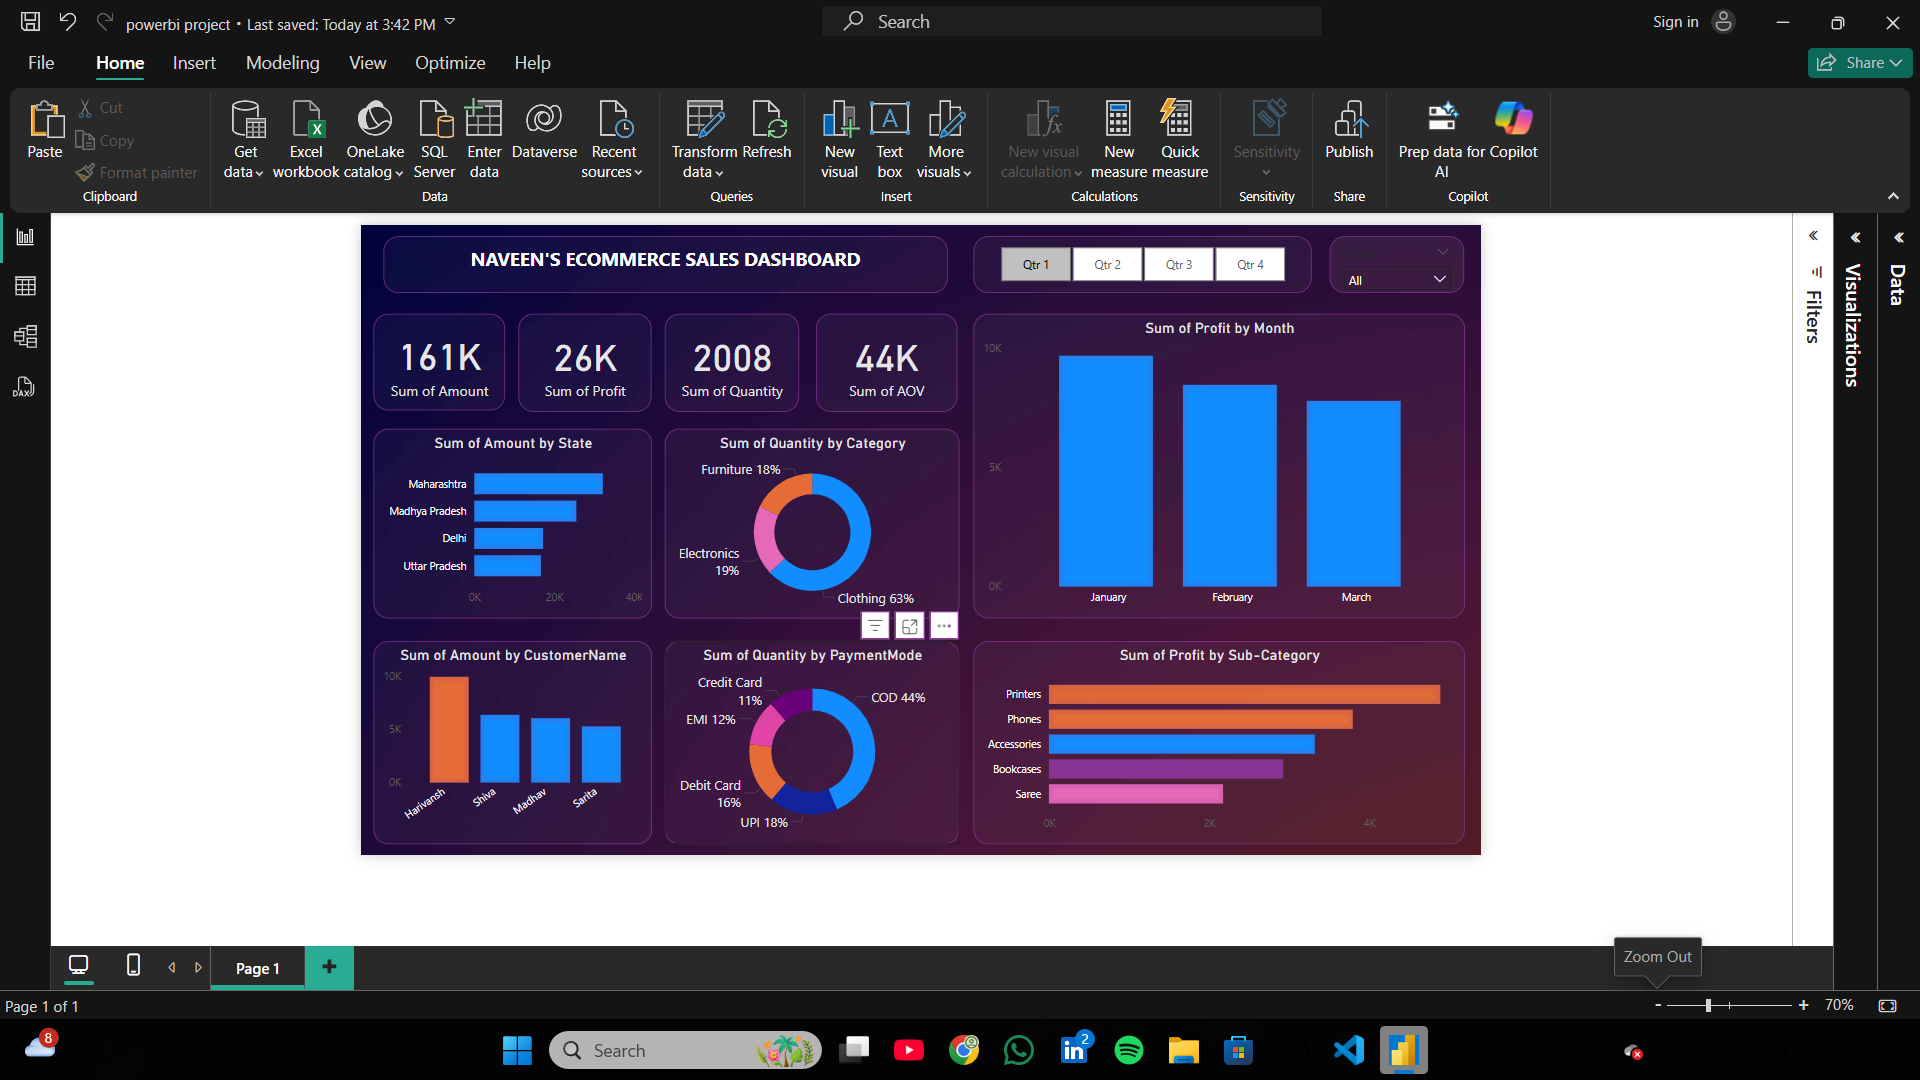

This screenshot's page, from the dashboard's own definition file:
{"tool":"powerbi","page":{"name":"Page 1","canvas":[1280,720],"ordinal":0},"visuals":[{"type":"textbox","box":[26.2,12.3,644.6,64.6],"z":0},{"type":"columnChart","fields":{"Category":["Orders.Order Date.Variation.Date Hierarchy.Month"],"Y":["Sum(Details.Profit)"]},"box":[700,101.5,561.5,347.7],"z":1000},{"type":"barChart","fields":{"Category":["Details.Sub-Category"],"Y":["Sum(Details.Profit)"]},"box":[700,475.4,561.5,232.3],"z":2000},{"type":"donutChart","fields":{"Category":["Details.Category"],"Y":["Sum(Details.Quantity)"]},"box":[347.7,232.3,336.9,216.9],"z":3000},{"type":"donutChart","fields":{"Y":["Sum(Details.Quantity)"],"Category":["Details.PaymentMode"]},"box":[347.7,475.4,336.9,232.3],"z":4000},{"type":"card","fields":{"Values":["Sum(Details.Amount)"]},"box":[13.8,101.5,150.8,110.8],"z":4001},{"type":"card","fields":{"Values":["Sum(Details.Profit)"]},"box":[180,101.5,152.3,112.3],"z":4002},{"type":"card","fields":{"Values":["Sum(Details.Quantity)"]},"box":[347.7,101.5,153.8,112.3],"z":4003},{"type":"card","fields":{"Values":["Sum(Details.AOV)"]},"box":[520,101.5,161.5,112.3],"z":4004},{"type":"barChart","fields":{"Y":["Sum(Details.Amount)"],"Category":["Orders.State"]},"box":[13.8,232.3,318.5,216.9],"z":4005},{"type":"columnChart","fields":{"Category":["Orders.CustomerName"],"Y":["Sum(Details.Amount)"]},"box":[13.8,475.4,318.5,232.3],"z":4006},{"type":"slicer","fields":{"Values":["Orders.State"]},"box":[1107.7,12.3,153.8,64.6],"z":4007},{"type":"slicer","fields":{"Values":["Orders.Order Date.Variation.Date Hierarchy.Quarter"]},"box":[700,12.3,386.2,64.6],"z":4008}]}

Visuals, with their boxes on the page's 1280x720 design canvas (x1, y1, x2, y2). These are canvas units, not pixel positions in the 1920x1080 screenshot, which may show the page scaled, cropped or inside an application window:
textbox: rect(26, 12, 671, 77)
columnChart - Orders.Order Date.Variation.Date Hierarchy.Month x Sum(Details.Profit): rect(700, 102, 1262, 449)
barChart - Details.Sub-Category x Sum(Details.Profit): rect(700, 475, 1262, 708)
donutChart - Details.Category x Sum(Details.Quantity): rect(348, 232, 685, 449)
donutChart - Sum(Details.Quantity) x Details.PaymentMode: rect(348, 475, 685, 708)
card - Sum(Details.Amount): rect(14, 102, 165, 212)
card - Sum(Details.Profit): rect(180, 102, 332, 214)
card - Sum(Details.Quantity): rect(348, 102, 502, 214)
card - Sum(Details.AOV): rect(520, 102, 682, 214)
barChart - Sum(Details.Amount) x Orders.State: rect(14, 232, 332, 449)
columnChart - Orders.CustomerName x Sum(Details.Amount): rect(14, 475, 332, 708)
slicer - Orders.State: rect(1108, 12, 1262, 77)
slicer - Orders.Order Date.Variation.Date Hierarchy.Quarter: rect(700, 12, 1086, 77)
